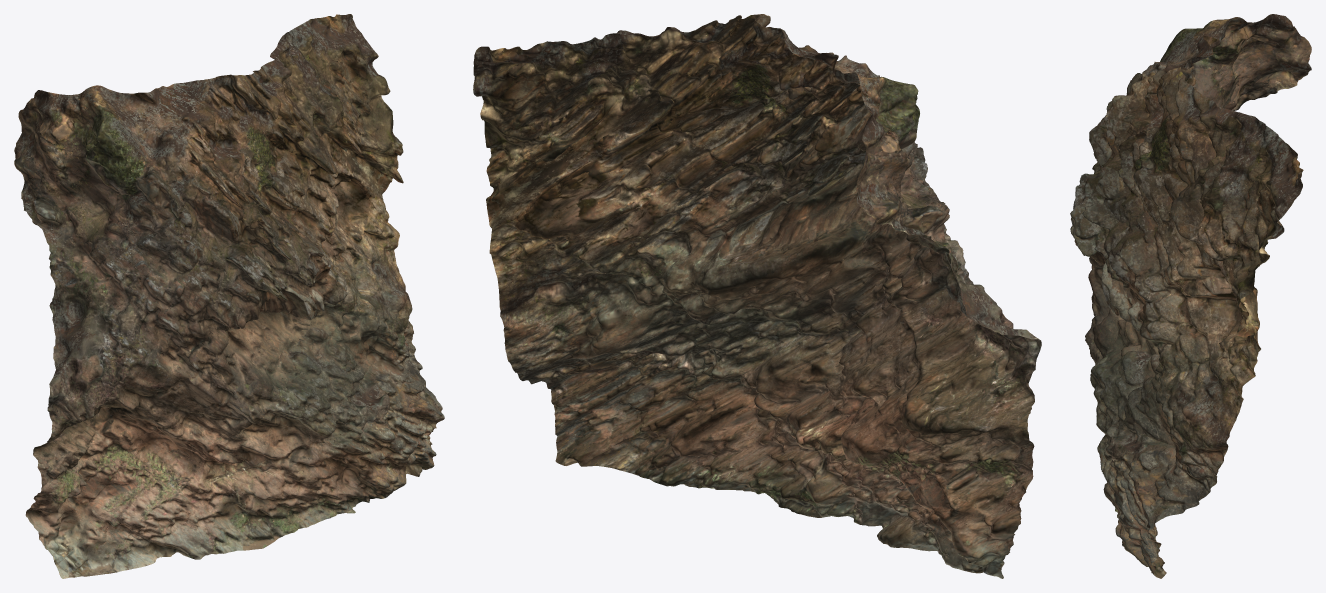
Rendered from mountainside_2k.gltf.
The picture shows the model from 3 angles, left to right: view 1: azimuth 30°, elevation 25°; view 2: azimuth 150°, elevation 25°; view 3: azimuth 270°, elevation 25°; orthographic projection. The views are drawn at different scales.
Parts seen in each view (by area): view 1: mountainside; view 2: mountainside; view 3: mountainside.
Part boxes in pixels (bbox=[...]): mountainside: bbox=[14, 14, 444, 578]; mountainside: bbox=[473, 14, 1041, 578]; mountainside: bbox=[1070, 14, 1311, 578].
Bounding box in the file's own units: 10.21 × 10.52 × 5.25.
1 material, 1 textured.
